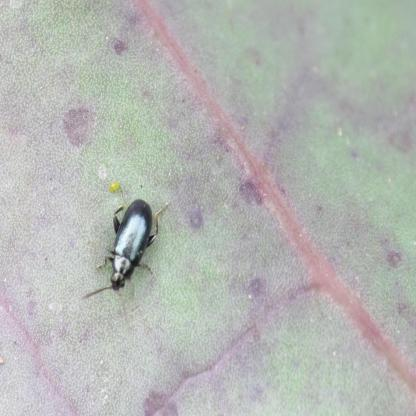beetle: (105, 185, 149, 295)
